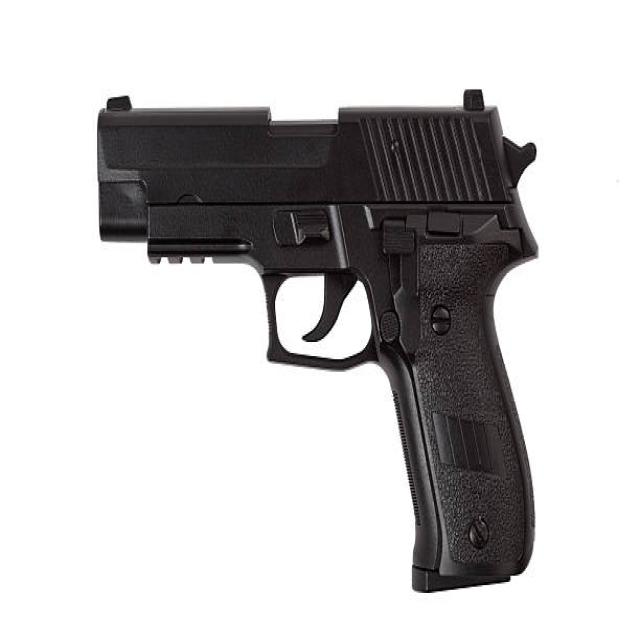pistol: (91, 81, 560, 597)
